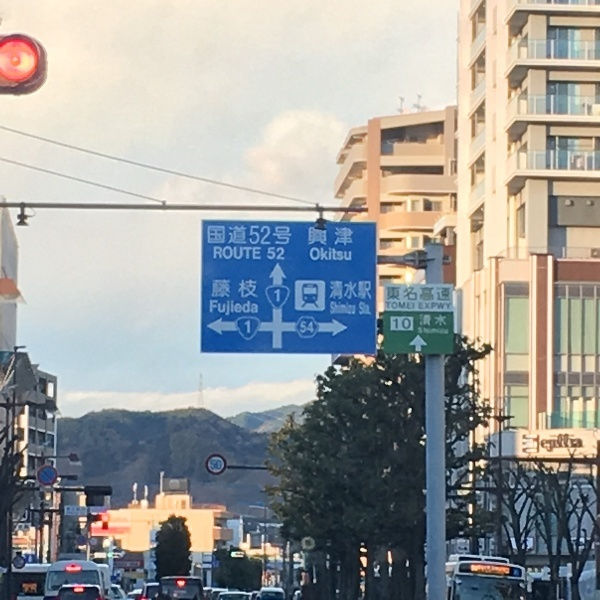text: (337, 227, 353, 246), (545, 433, 560, 453), (561, 433, 576, 453), (321, 227, 336, 246), (225, 279, 240, 298), (241, 279, 256, 298), (209, 226, 224, 245), (225, 226, 240, 245), (241, 226, 256, 245), (257, 226, 272, 245), (273, 226, 288, 245), (337, 281, 352, 299), (353, 281, 368, 299), (225, 300, 240, 317), (241, 300, 256, 317), (210, 300, 224, 317), (212, 279, 224, 298), (321, 247, 336, 261), (401, 287, 416, 301), (417, 287, 432, 301), (433, 287, 448, 301), (309, 227, 320, 246), (337, 247, 351, 261), (225, 247, 240, 260), (241, 247, 256, 260), (275, 289, 288, 303), (387, 287, 400, 301), (337, 302, 352, 314), (273, 247, 285, 261), (481, 565, 496, 576), (210, 460, 224, 471), (433, 315, 447, 326), (497, 565, 510, 576), (310, 247, 320, 261), (245, 321, 256, 333), (420, 315, 432, 326), (214, 247, 224, 260), (433, 327, 449, 335), (359, 302, 368, 316), (433, 302, 448, 310), (401, 318, 411, 330), (577, 433, 583, 453), (418, 327, 432, 335), (66, 508, 80, 516), (305, 321, 314, 333), (330, 281, 336, 299), (401, 302, 416, 309), (419, 302, 432, 310), (471, 565, 480, 576), (386, 302, 400, 309), (393, 318, 400, 330), (113, 563, 128, 568), (330, 302, 336, 314), (267, 247, 272, 261), (541, 433, 544, 453), (289, 226, 292, 245), (257, 247, 261, 260), (129, 563, 139, 568), (301, 321, 304, 333), (353, 302, 356, 314), (369, 281, 371, 299), (81, 508, 85, 516), (369, 302, 371, 316), (257, 279, 258, 298), (257, 300, 258, 317), (449, 302, 451, 310), (449, 287, 450, 301)
